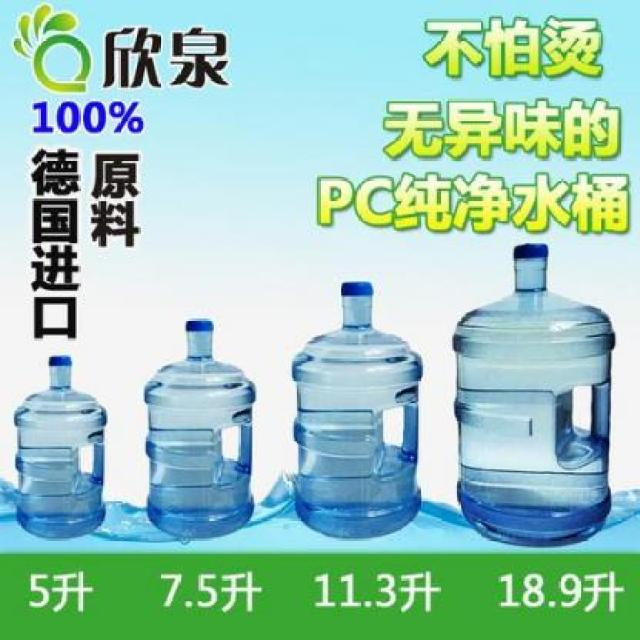coolerbottle: (448, 238, 620, 548), (290, 277, 428, 545), (138, 314, 260, 539), (10, 351, 111, 544)
